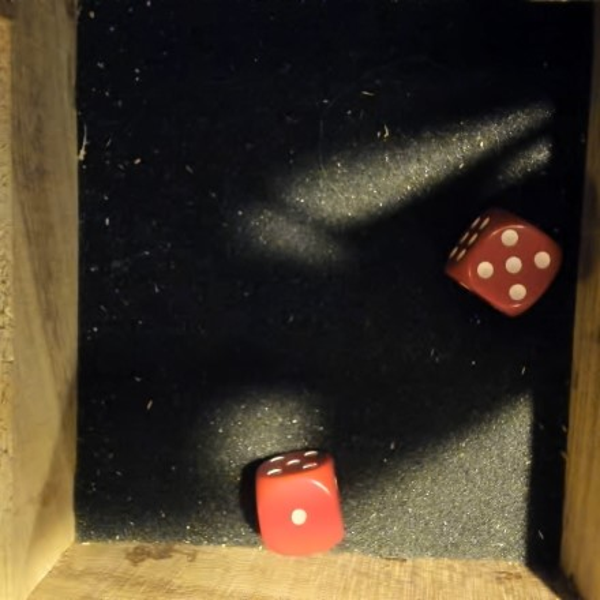red_die_pip1: (247, 443, 347, 560)
red_die_pip5: (441, 197, 571, 325), (487, 146, 538, 170)
